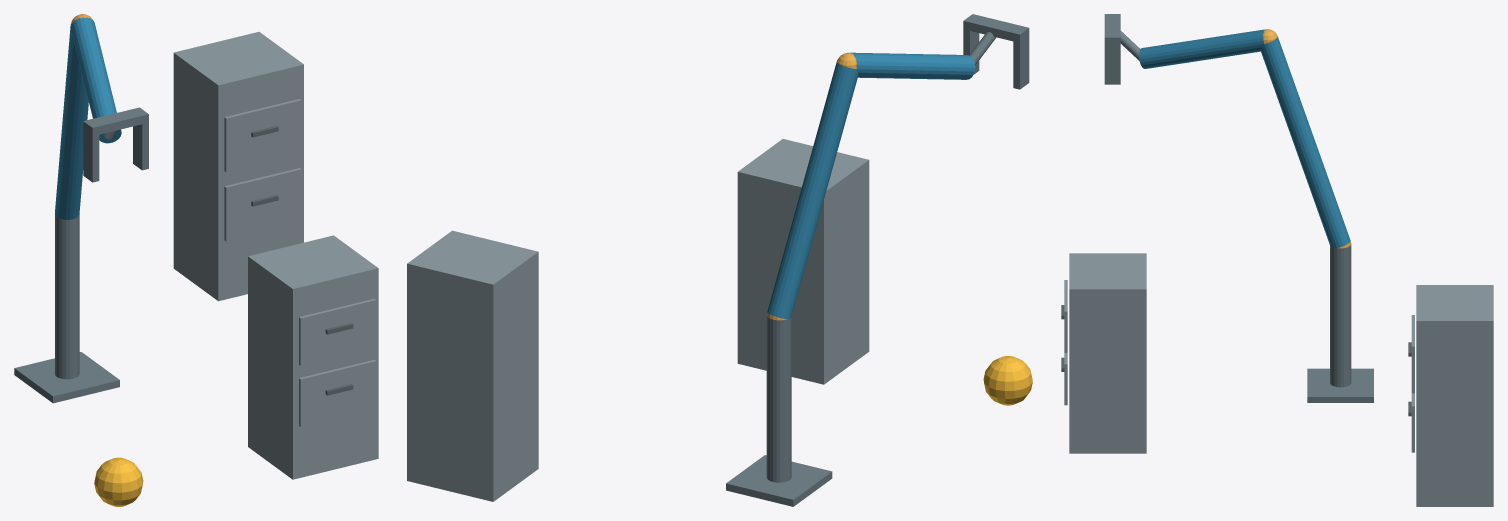
3 renders of one model, left to right at view 1: azimuth 30°, elevation 25°; view 2: azimuth 150°, elevation 25°; view 3: azimuth 270°, elevation 25°, orthographic. The views are drawn at different scales.
Parts seen in each view (by area): view 1: cabinet_2 body, cabinet_1 body, cabinet_2 drawer front, cabinet_2 drawer front.001, fixed post, moving link 1, cabinet_1 drawer front.001, cabinet_1 drawer front, pedestal, moving link 2, ball ball_1, gripper bridge (+2 smaller); view 2: cabinet_2 body, cabinet_1 body, moving link 1, fixed post, moving link 2, pedestal, ball ball_1, gripper bridge, gripper finger -1; view 3: cabinet_2 body, cabinet_1 body, moving link 1, fixed post, moving link 2, pedestal, gripper finger 1, gripper bridge.
Part boxes in pixels (bbox=[...]): cabinet_2 body: bbox=[173, 32, 303, 301]; cabinet_1 body: bbox=[248, 235, 378, 479]; cabinet_2 drawer front: bbox=[224, 168, 301, 241]; cabinet_2 drawer front.001: bbox=[224, 99, 301, 172]; fixed post: bbox=[55, 214, 79, 379]; moving link 1: bbox=[55, 23, 88, 219]; cabinet_1 drawer front.001: bbox=[299, 299, 376, 365]; cabinet_1 drawer front: bbox=[299, 360, 376, 426]; pedestal: bbox=[14, 352, 119, 403]; moving link 2: bbox=[70, 17, 121, 143]; ball ball_1: bbox=[94, 457, 143, 506]; gripper bridge: bbox=[83, 107, 148, 136]; cabinet_2 body: bbox=[407, 230, 538, 501]; cabinet_1 body: bbox=[737, 139, 869, 384]; moving link 1: bbox=[767, 62, 858, 319]; fixed post: bbox=[766, 315, 791, 482]; moving link 2: bbox=[850, 52, 975, 79]; pedestal: bbox=[726, 455, 832, 506]; ball ball_1: bbox=[983, 356, 1032, 405]; gripper bridge: bbox=[963, 14, 1029, 42]; gripper finger -1: bbox=[1013, 36, 1029, 89]; cabinet_2 body: bbox=[1416, 285, 1493, 506]; cabinet_1 body: bbox=[1069, 253, 1146, 453]; moving link 1: bbox=[1261, 36, 1350, 248]; fixed post: bbox=[1330, 244, 1351, 387]; moving link 2: bbox=[1139, 29, 1265, 68]; pedestal: bbox=[1307, 368, 1373, 402]; gripper finger 1: bbox=[1104, 45, 1120, 84]; gripper bridge: bbox=[1104, 14, 1120, 44].
Bounding box in the file's own units: 1.46 × 1.44 × 1.62.
